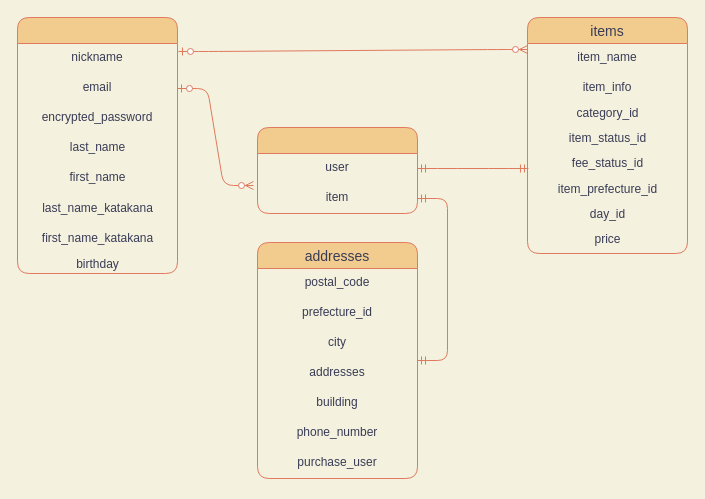
Image size: 705x499. Some labels were removed from this diagram. The box of each missing label's shape, as (x1, y1, x2, y2) in pixels:
purchase_users: (256, 126, 418, 214)
users: (16, 16, 178, 274)
